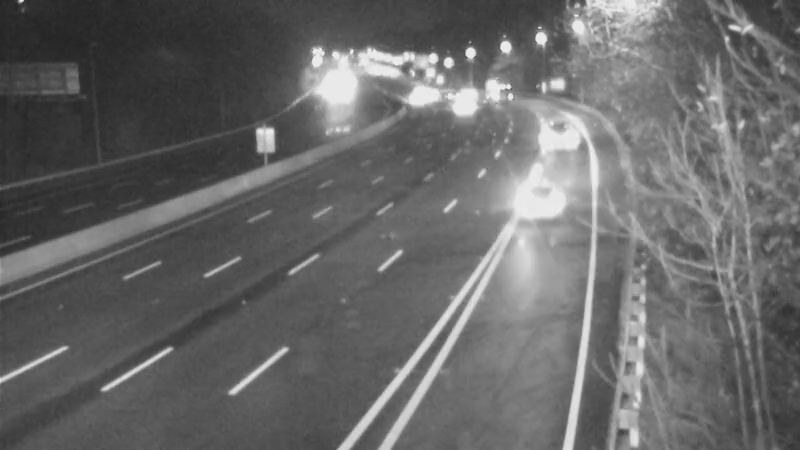vehicle: (517, 154, 597, 234), (460, 67, 510, 117), (396, 77, 446, 127), (436, 76, 486, 126), (531, 109, 581, 159)
